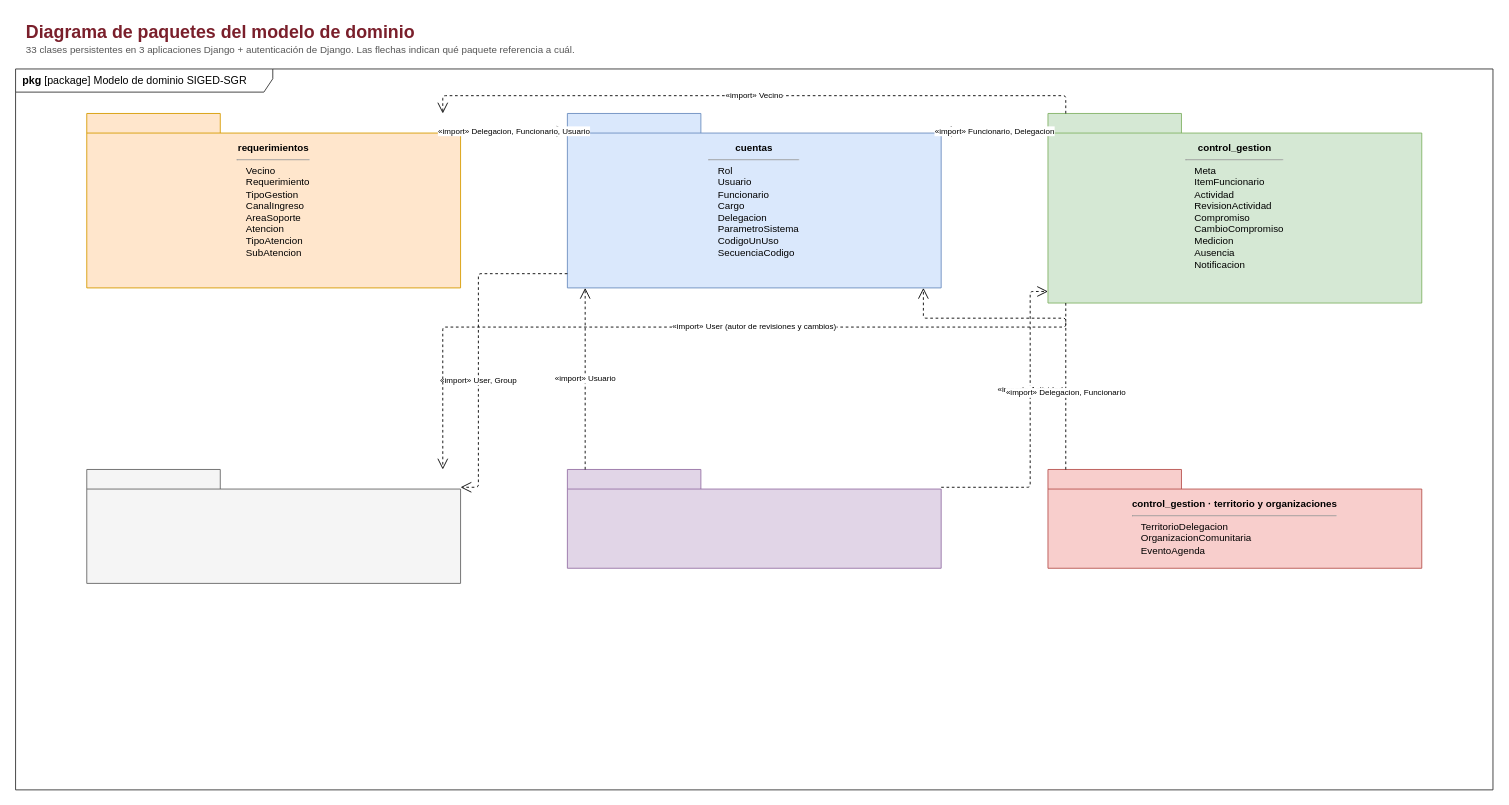
Some shapes in this 1509 by 805 pixel diagram are drawn without their labels. Here are the shapes that lost their labels. From the top down, the centre of each, then its label:
(x=273, y=526): django.contrib.auth User Group Permission Session
(x=753, y=518): control_gestion · API móvil SesionMovil IntentosMovil EnvioMovil
